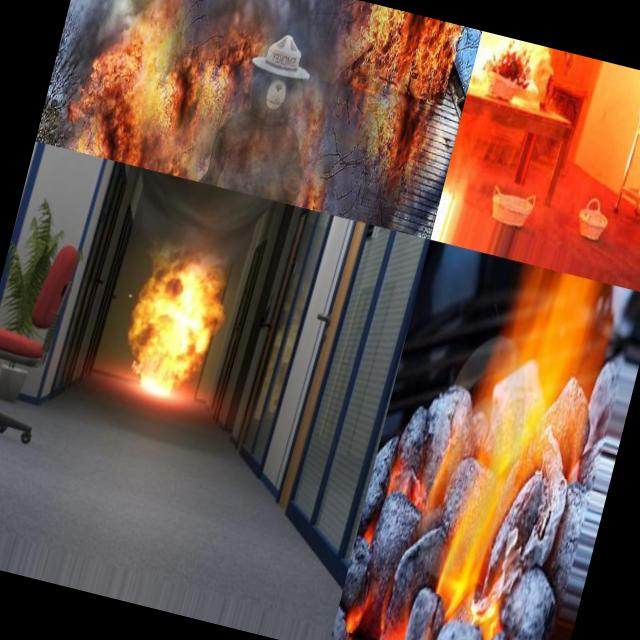fire: (429, 270, 611, 634), (100, 222, 242, 408), (76, 32, 220, 180), (339, 4, 459, 169), (462, 30, 575, 134)
smoke: (103, 0, 247, 43)
